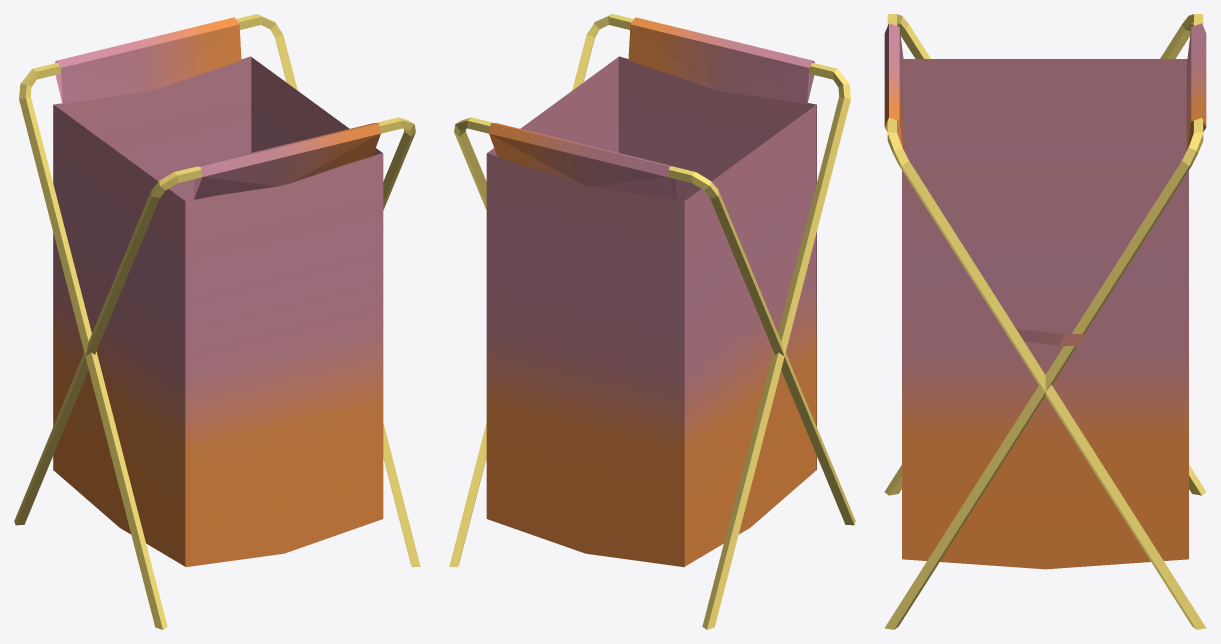
File: laundry_basket2.fbx
3 renders of one model, left to right at view 1: azimuth 30°, elevation 25°; view 2: azimuth 150°, elevation 25°; view 3: azimuth 270°, elevation 25°, orthographic. The views are drawn at different scales.
Parts seen in each view (by area): view 1: laundry_basket2; view 2: laundry_basket2; view 3: laundry_basket2.
Boxes of the visible parts, box(x1,y1,x2,y2) form: laundry_basket2: box(14, 14, 420, 629); laundry_basket2: box(449, 14, 855, 629); laundry_basket2: box(884, 14, 1206, 629).
Bounding box in the file's own units: 75.62 × 123 × 73.56.
